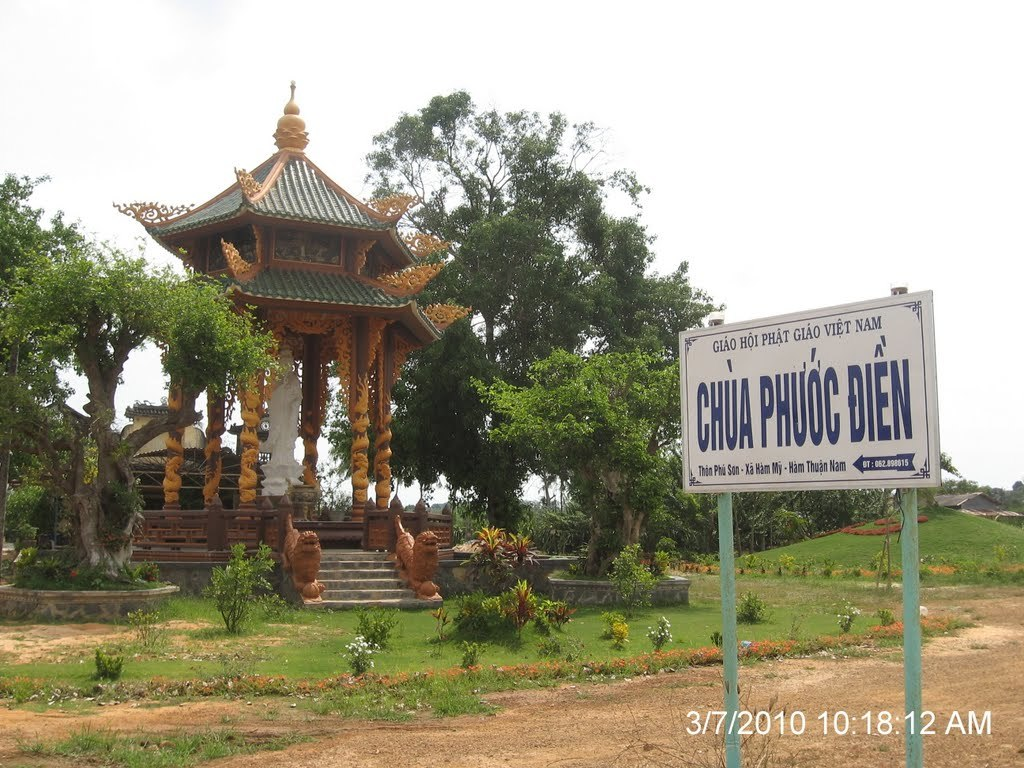Tree: (318, 86, 716, 590), (24, 200, 197, 612)
